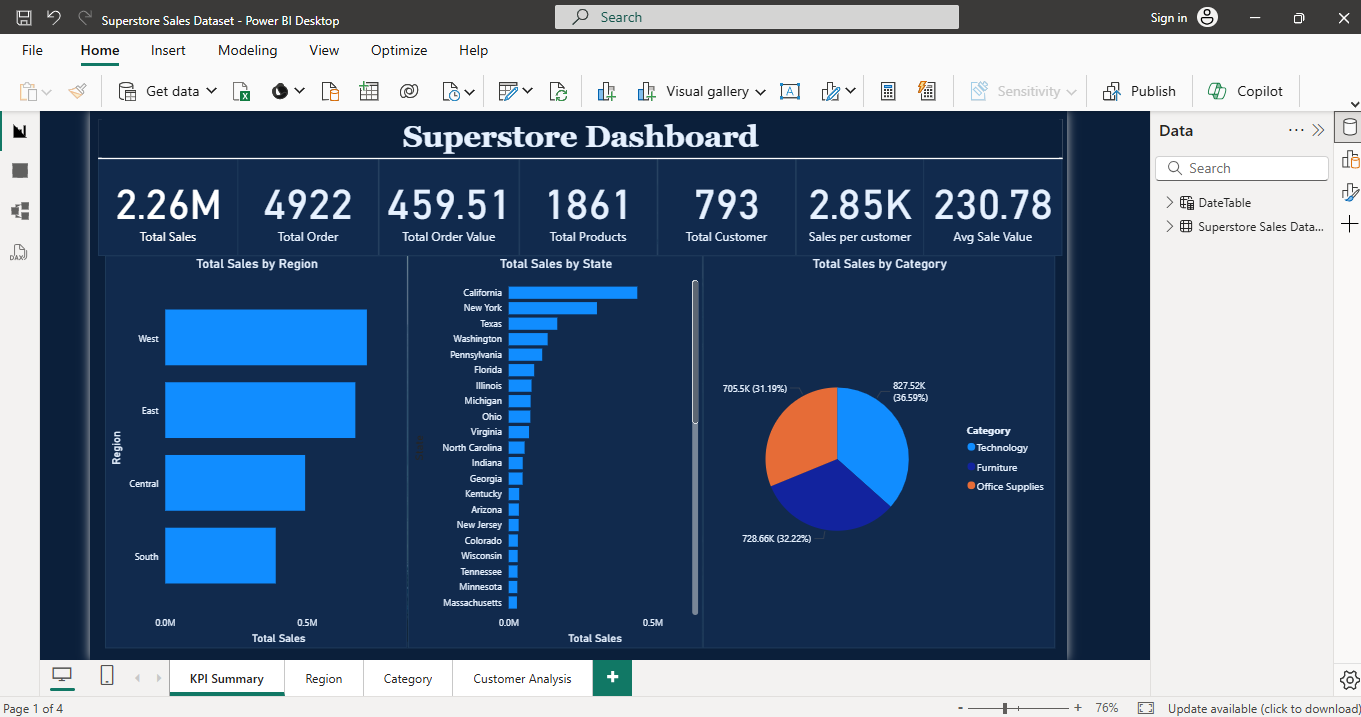

The page's visual inventory and layout, read from the dashboard file:
{"tool":"powerbi","page":{"name":"KPI Summary","canvas":[1280,720],"ordinal":0},"visuals":[{"type":"card","fields":{"Values":["DateTable.Total Sales"]},"box":[10.1,62.2,183.8,127.3],"z":0},{"type":"card","fields":{"Values":["DateTable.Total Order"]},"box":[193.9,62.2,185.2,127.3],"z":1000},{"type":"card","fields":{"Values":["DateTable.Total Customer"]},"box":[743.8,62.2,180.9,127.3],"z":2000},{"type":"card","fields":{"Values":["DateTable.Total Order Value"]},"box":[379.1,62.2,183.8,127.3],"z":3000},{"type":"card","fields":{"Values":["DateTable.Sales per customer"]},"box":[924.7,62.2,167.9,127.3],"z":4000},{"type":"card","fields":{"Values":["DateTable.Total Products"]},"box":[562.9,62.2,180.9,127.3],"z":5000},{"type":"card","fields":{"Values":["DateTable.Avg Sale Value"]},"box":[1092.6,62.2,182.3,127.3],"z":6000},{"type":"barChart","fields":{"Y":["DateTable.Total Sales"],"Category":["Superstore Sales Dataset.Region"]},"box":[20.3,189.6,396.5,515.2],"z":7000},{"type":"pieChart","fields":{"Category":["Superstore Sales Dataset.Category"],"Y":["DateTable.Total Sales"]},"box":[803.1,189.6,461.6,515.2],"z":8000},{"type":"clusteredBarChart","fields":{"Category":["Superstore Sales Dataset.State"],"Y":["DateTable.Total Sales"]},"box":[416.8,189.6,386.4,515.2],"z":9000},{"type":"textbox","title":"Superstore Dashboard","box":[10.1,10.1,1264.8,52.1],"z":9001}]}

Visuals, with their boxes on the page's 1280x720 design canvas (x1, y1, x2, y2). These are canvas units, not pixel positions in the 1361x717 screenshot, which may show the page scaled, cropped or inside an application window:
card - DateTable.Total Sales: [left=10, top=62, right=194, bottom=190]
card - DateTable.Total Order: [left=194, top=62, right=379, bottom=190]
card - DateTable.Total Customer: [left=744, top=62, right=925, bottom=190]
card - DateTable.Total Order Value: [left=379, top=62, right=563, bottom=190]
card - DateTable.Sales per customer: [left=925, top=62, right=1093, bottom=190]
card - DateTable.Total Products: [left=563, top=62, right=744, bottom=190]
card - DateTable.Avg Sale Value: [left=1093, top=62, right=1275, bottom=190]
barChart - DateTable.Total Sales x Superstore Sales Dataset.Region: [left=20, top=190, right=417, bottom=705]
pieChart - Superstore Sales Dataset.Category x DateTable.Total Sales: [left=803, top=190, right=1265, bottom=705]
clusteredBarChart - Superstore Sales Dataset.State x DateTable.Total Sales: [left=417, top=190, right=803, bottom=705]
"Superstore Dashboard" textbox: [left=10, top=10, right=1275, bottom=62]
